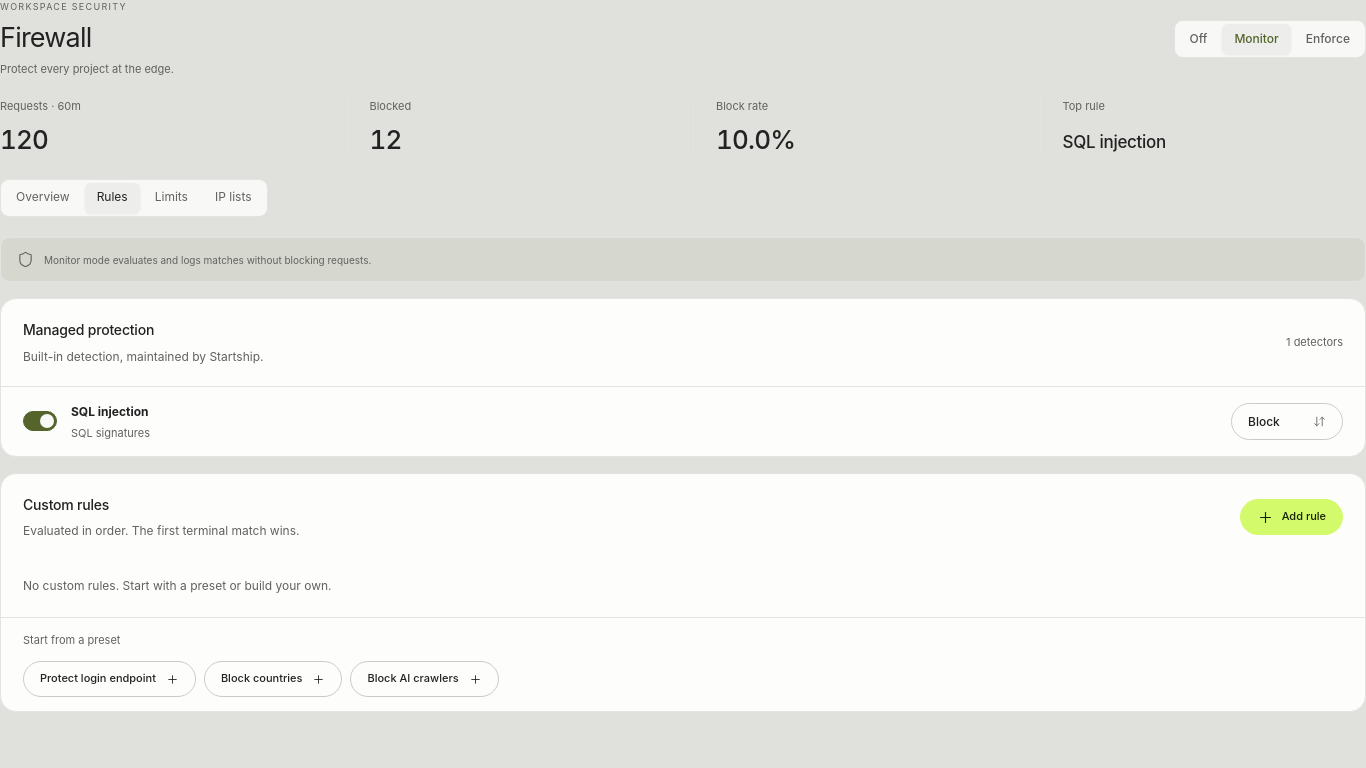
Test: workspace firewall › offers permanent direct bans and numeric finite rate-ban durations
Later steps or results of the test are not shown.
Step 1. Click the button "Protect login endpoint" → [109, 679], box [23,661,196,697]
(page scrolled)
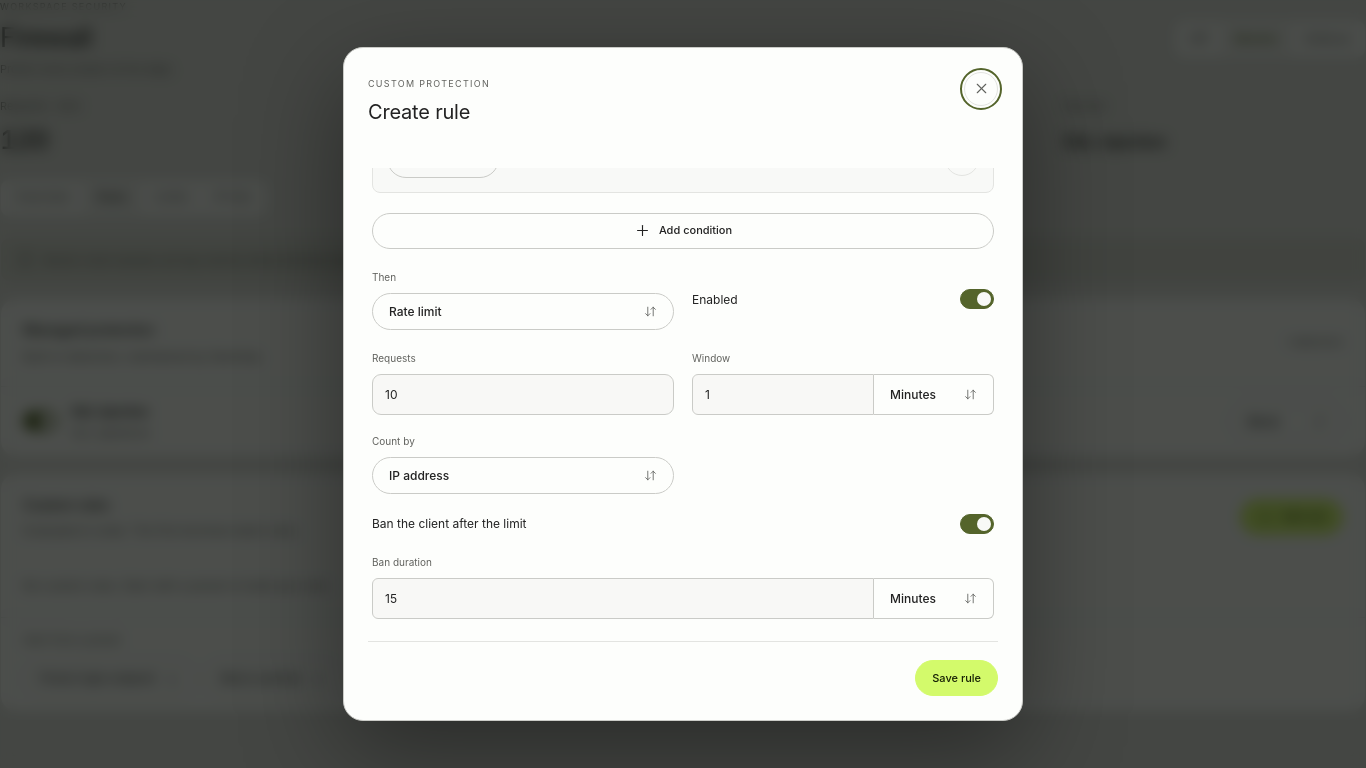
Expected: the number field labelled "Ban duration" holds "15", [372,578,874,619]
